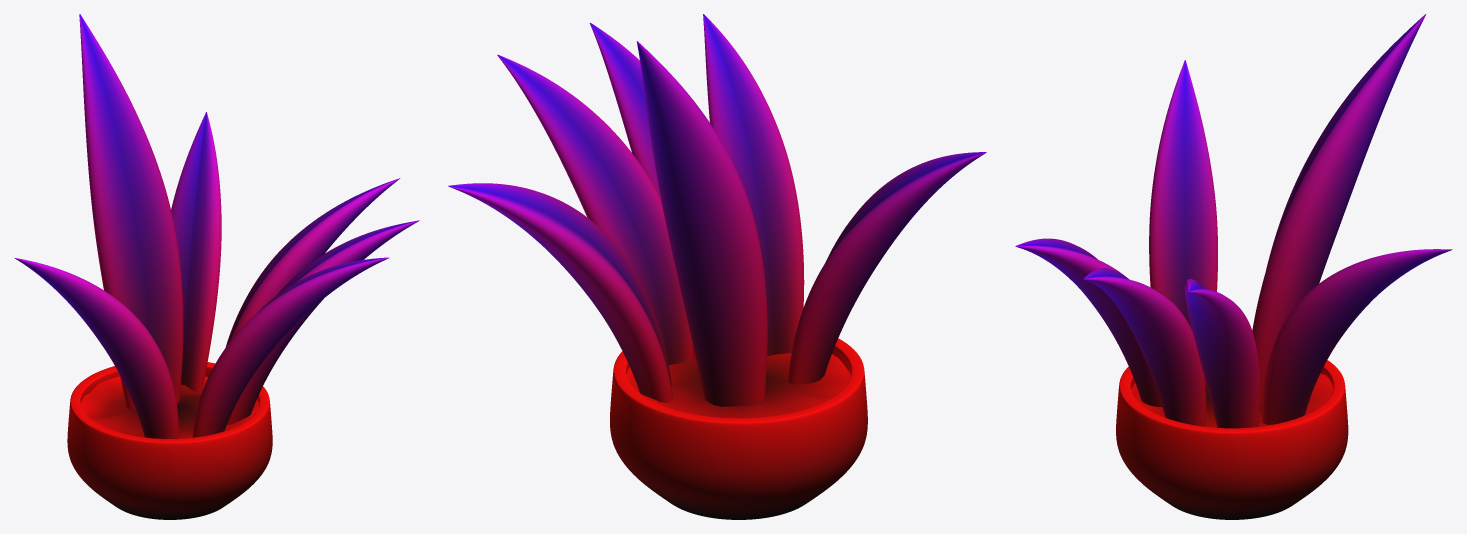
File: Stylized_potted_plant_2.fbx
The picture shows the model from 3 angles, left to right: view 1: azimuth 30°, elevation 25°; view 2: azimuth 150°, elevation 25°; view 3: azimuth 270°, elevation 25°; orthographic projection. The views are drawn at different scales.
Parts seen in each view (by area): view 1: Stylized_potted_plant; view 2: Stylized_potted_plant; view 3: Stylized_potted_plant.
Part boxes in pixels (bbox=[...]): Stylized_potted_plant: bbox=[14, 14, 419, 519]; Stylized_potted_plant: bbox=[448, 14, 986, 519]; Stylized_potted_plant: bbox=[1015, 14, 1452, 519].
Bounding box in the file's own units: 159 × 164 × 137.
